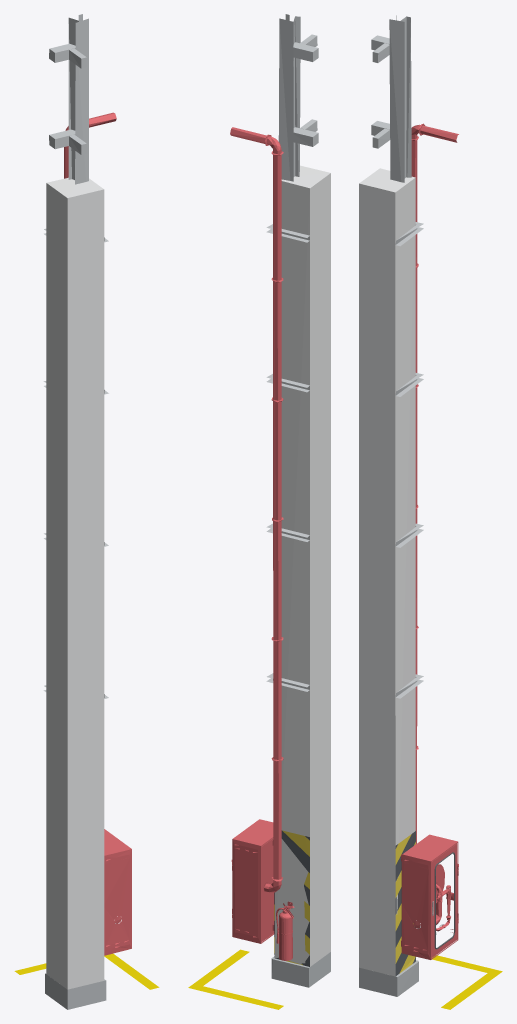
The model's file is galpao-pilar-hidrante.glb.
3 renders of one model, left to right at view 1: azimuth 30°, elevation 25°; view 2: azimuth 150°, elevation 25°; view 3: azimuth 330°, elevation 25°, orthographic.
Parts seen in each view (by area): view 1: #e6e9eb, #a3abb1, #c8262b, #8f979d, #e8b800; view 2: #e6e9eb, #c8262b, #a3abb1, #8f979d, #e8b800, #c8262b_1, #1f2328, #f0bf14; view 3: #e6e9eb, #c8262b, #a3abb1, #8f979d, #e8b800, #1f2328, #f0bf14, #202326.
Boxes of the visible parts, x1,y1,x2,y2 form: #e6e9eb: [46, 177, 104, 989]; #a3abb1: [43, 14, 108, 698]; #c8262b: [64, 112, 131, 955]; #8f979d: [45, 973, 106, 1009]; #e8b800: [14, 953, 159, 989]; #e6e9eb: [275, 165, 330, 966]; #c8262b: [230, 127, 283, 943]; #a3abb1: [266, 14, 318, 691]; #8f979d: [271, 952, 330, 987]; #e8b800: [188, 949, 283, 1009]; #c8262b_1: [276, 901, 294, 960]; #1f2328: [274, 830, 309, 966]; #f0bf14: [274, 830, 309, 965]; #e6e9eb: [359, 168, 415, 976]; #c8262b: [401, 123, 458, 959]; #a3abb1: [371, 15, 423, 698]; #8f979d: [359, 960, 418, 996]; #e8b800: [432, 955, 502, 1009]; #1f2328: [395, 831, 415, 975]; #f0bf14: [395, 834, 415, 973]; #202326: [434, 852, 455, 949].
Bounding box in the file's own units: 0.95 × 9.6 × 0.95.
